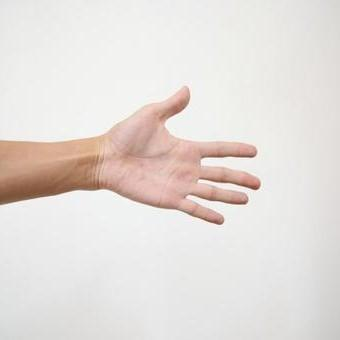pa-: (110, 84, 261, 227)
